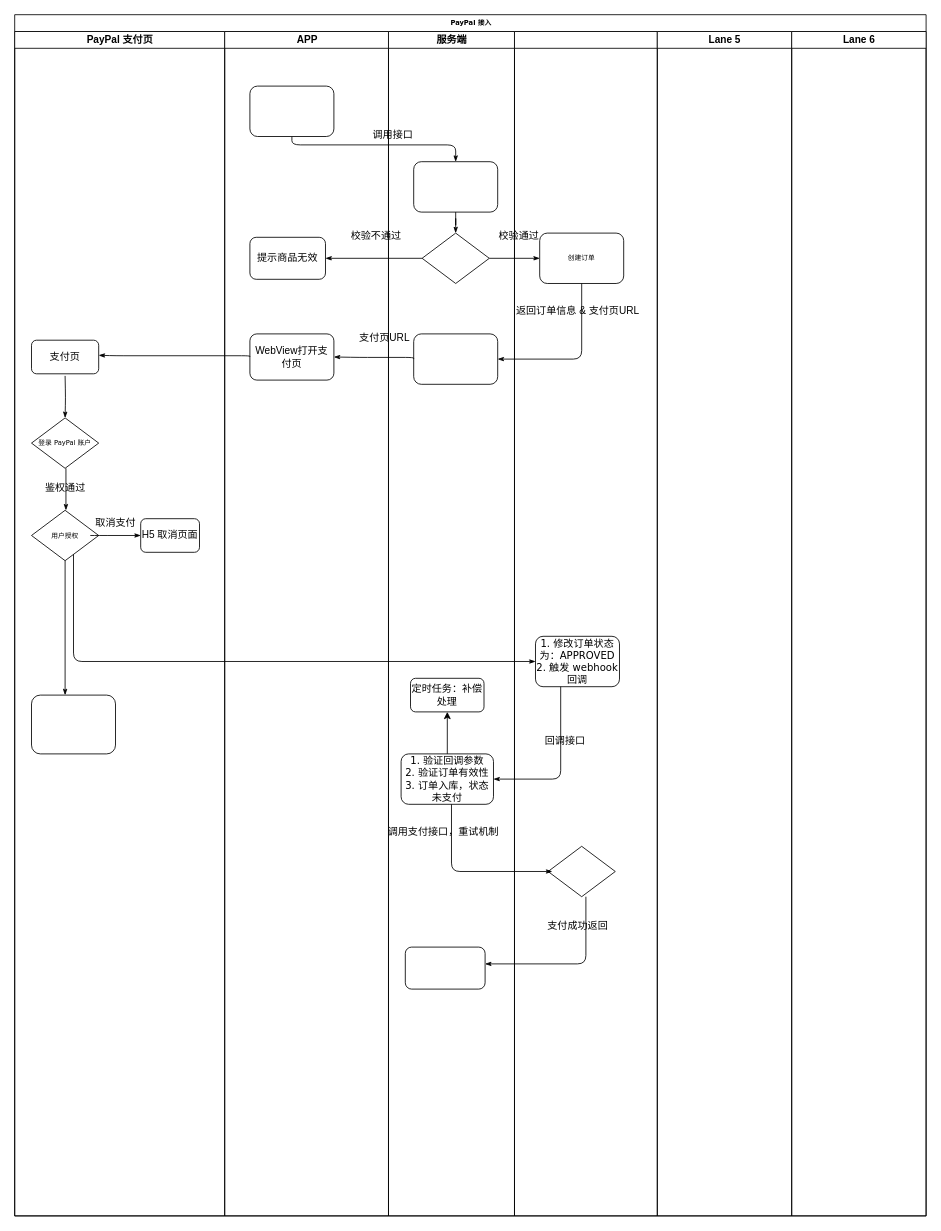
This 941x1231 diagram has some shape labels left out. Each missing label, with the box of its shape:
1. 修改订单状态 2. 用户金币下发: (404, 946, 485, 989)
H5 成功页面 【怎么判断支付成功状态？】: (31, 694, 116, 754)
PayPal 服务端: (514, 31, 657, 1216)
判断商品的有效性: (421, 232, 489, 284)
接收商品信息: (413, 161, 498, 212)
缓存订单信息，将支付页URL 返回前端: (413, 333, 498, 384)
选择 PayPal 支付: (249, 85, 334, 136)
验证订单有效性: (547, 845, 615, 897)
